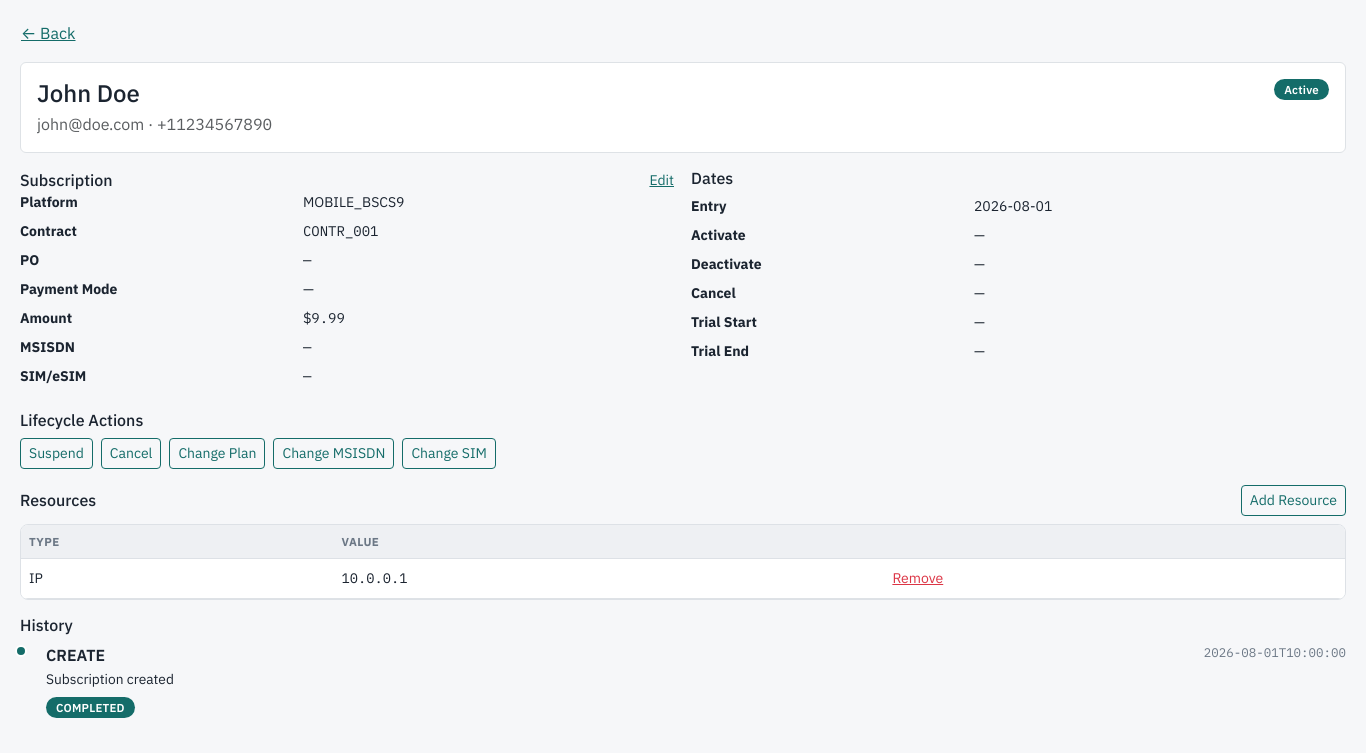
Test: editing contract and amount refreshes the displayed values
Check: the heading "John Doe" is shown, box [37,77,140,109]
Click the button "Edit" at point(662, 180), box [648,169,675,192]
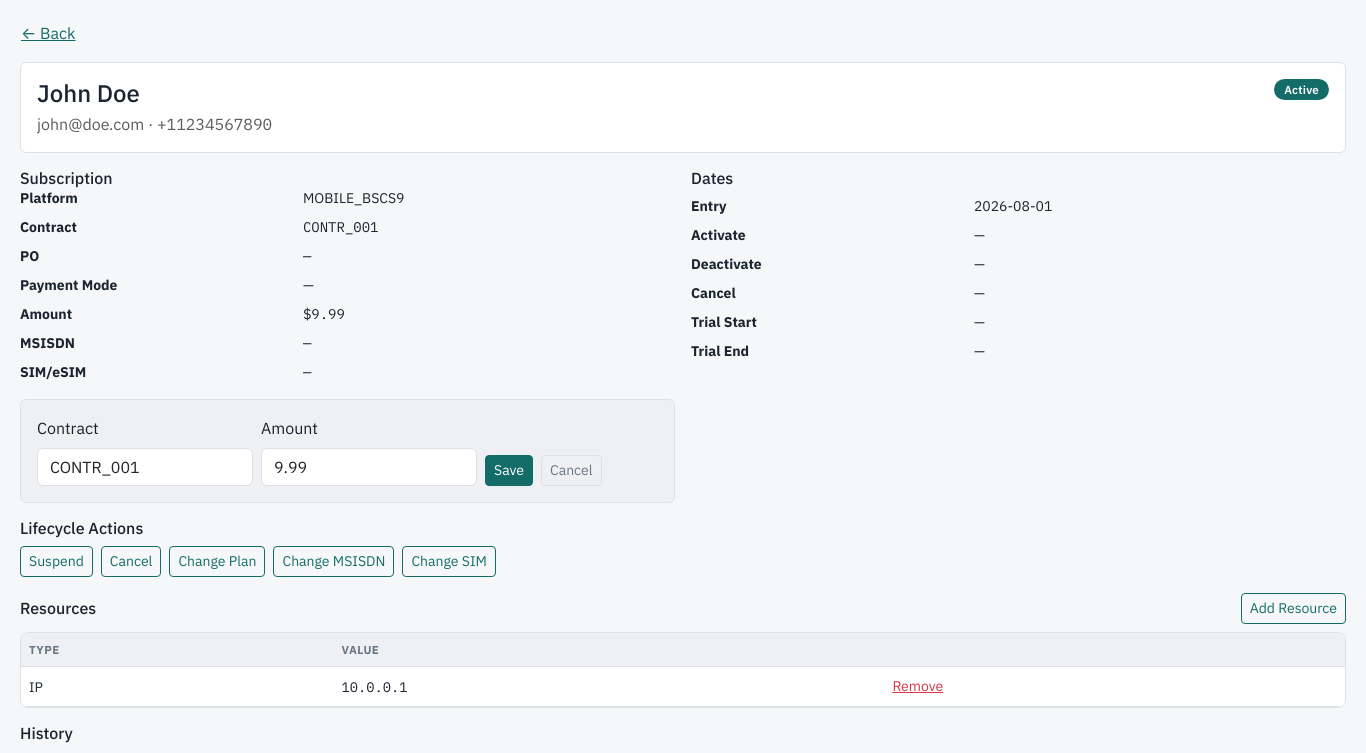
Replace the text in the field labelled "Contract" with "CONTR_002" at point(145, 467), box [37,448,253,486]
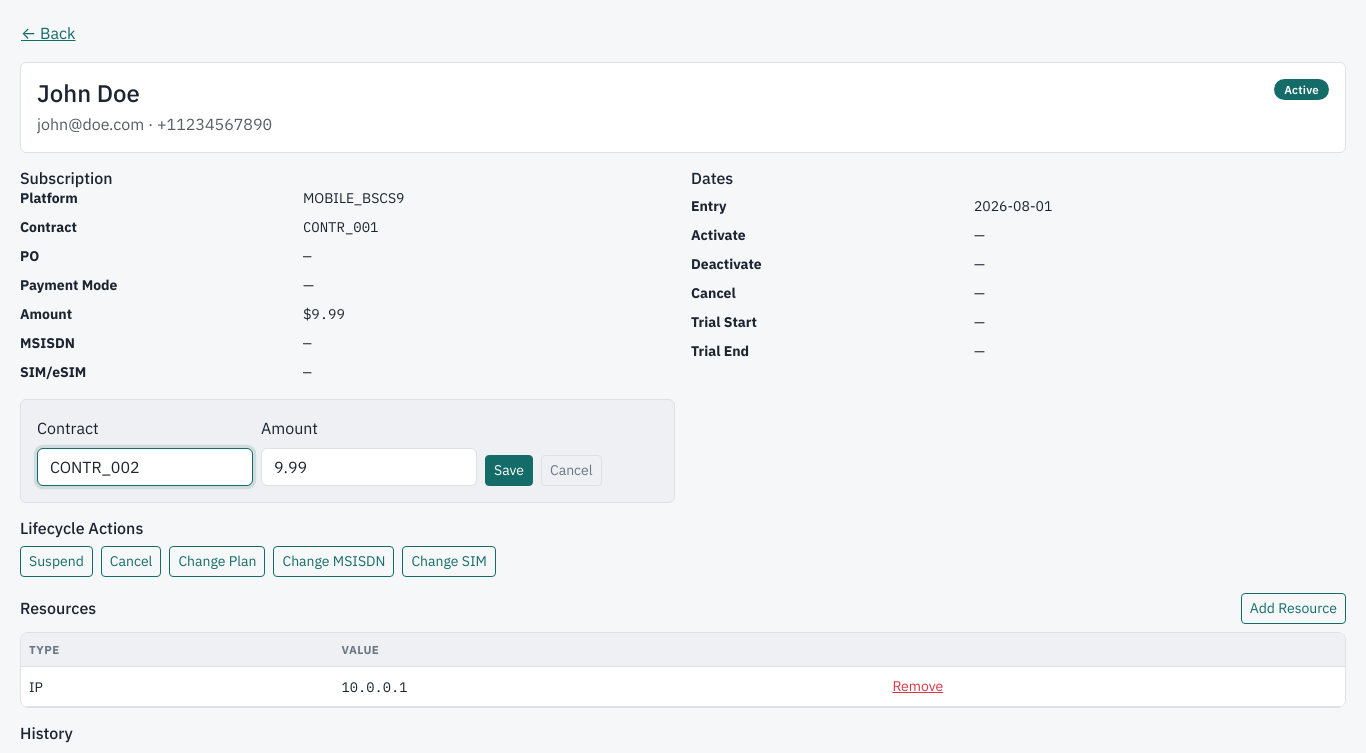
Click the button "Save" at point(509, 470), box [485,455,533,486]
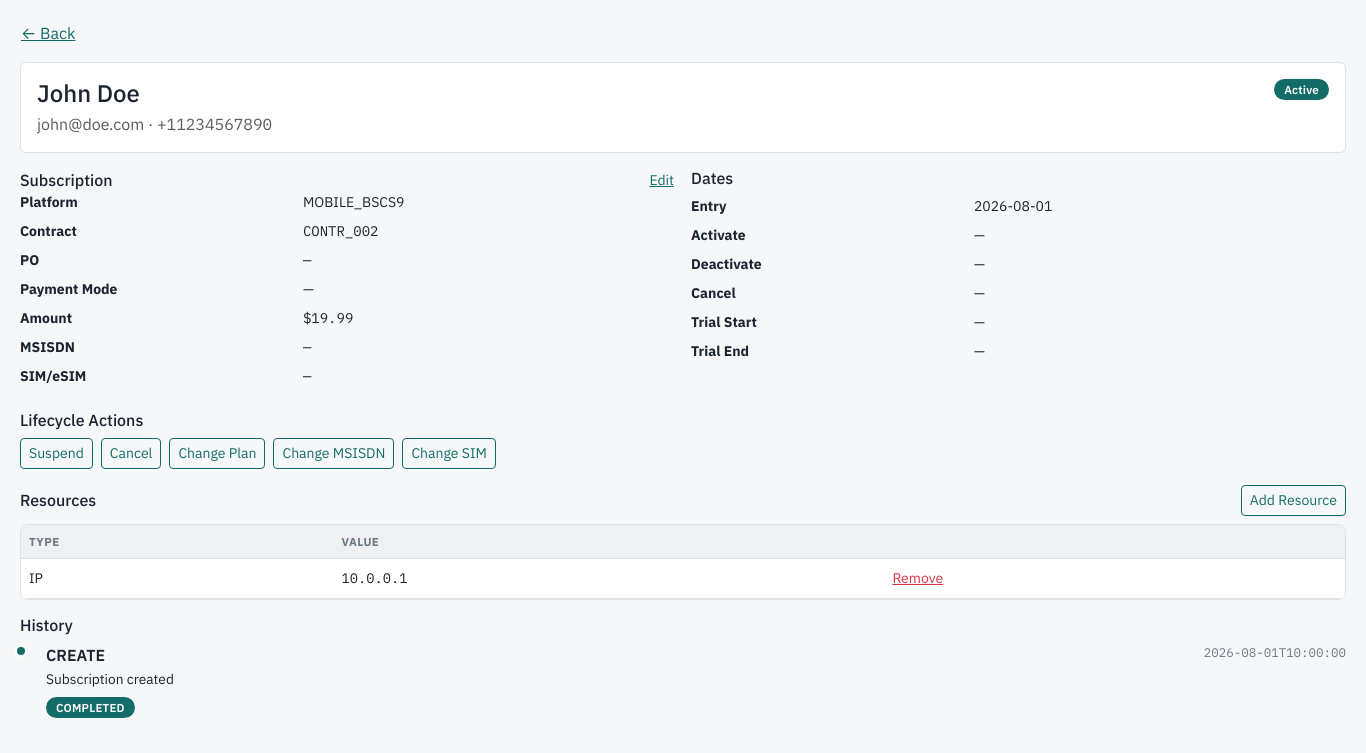
Check: the text "CONTR_002" is shown, box [303,222,378,240]
